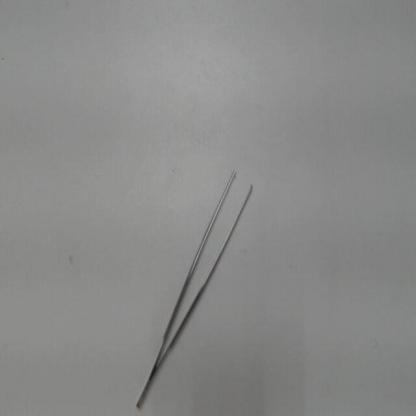Gillies Toothed Dissector: (133, 159, 265, 411)
